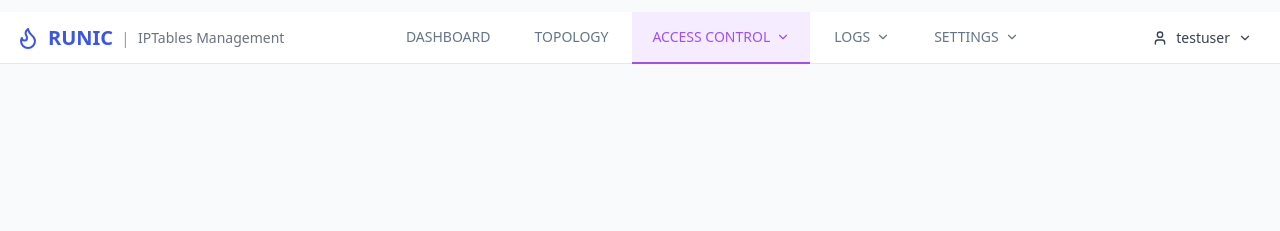
it: TopNav › parent menu highlighting › dropdown item shows active styling when route matches
# Open the dropdown first by hovering
Hover over the element showing "Access Control" at point(721, 38), box [632, 12, 810, 64]
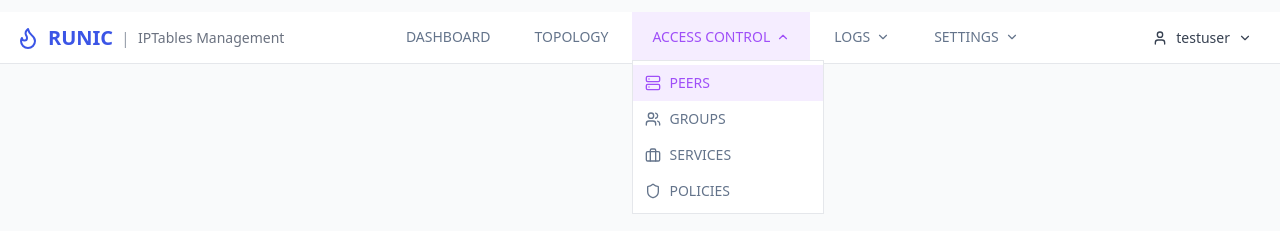
expect the text "Peers" is shown: met, box [670, 72, 710, 92]
expect the link "Peers" is shown: met, box [634, 64, 824, 100]
